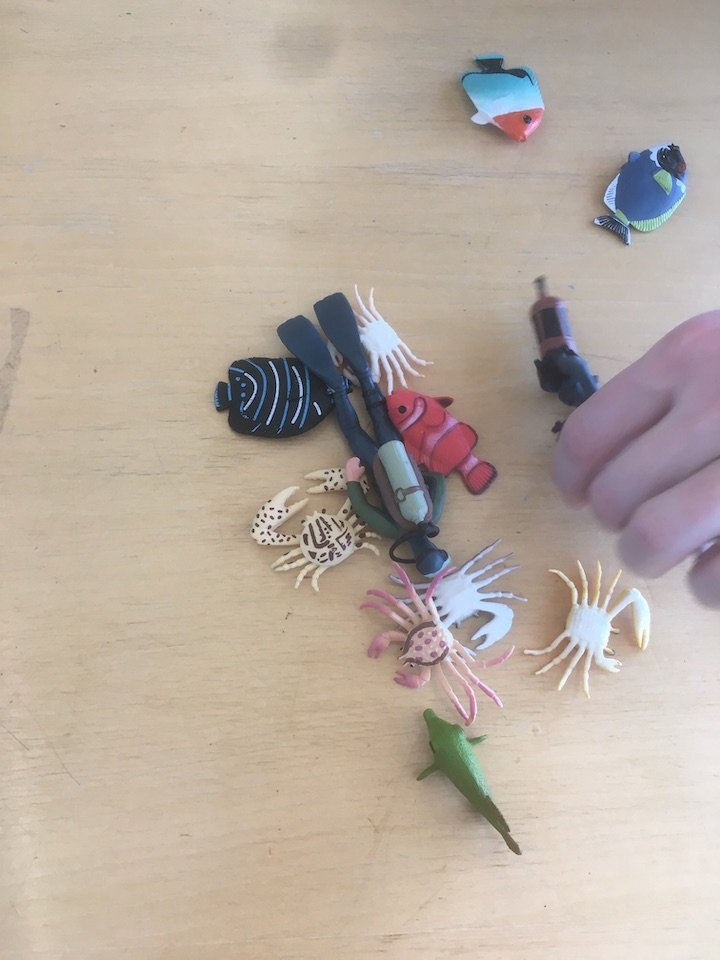crab: (355, 552, 514, 729), (250, 451, 406, 596), (521, 564, 659, 704), (379, 537, 531, 656), (324, 277, 440, 407)
diver: (273, 279, 473, 592), (511, 264, 610, 452)
fish: (414, 702, 533, 869), (378, 379, 500, 499), (211, 355, 365, 446), (587, 137, 693, 251), (455, 40, 550, 154)
